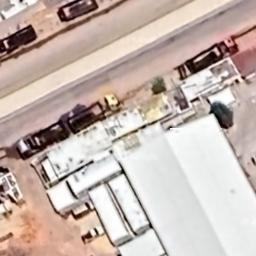sedan: (78, 225, 106, 243)
truck: (177, 32, 247, 75), (63, 93, 125, 131), (14, 126, 71, 156), (50, 0, 108, 22), (0, 22, 45, 50)
